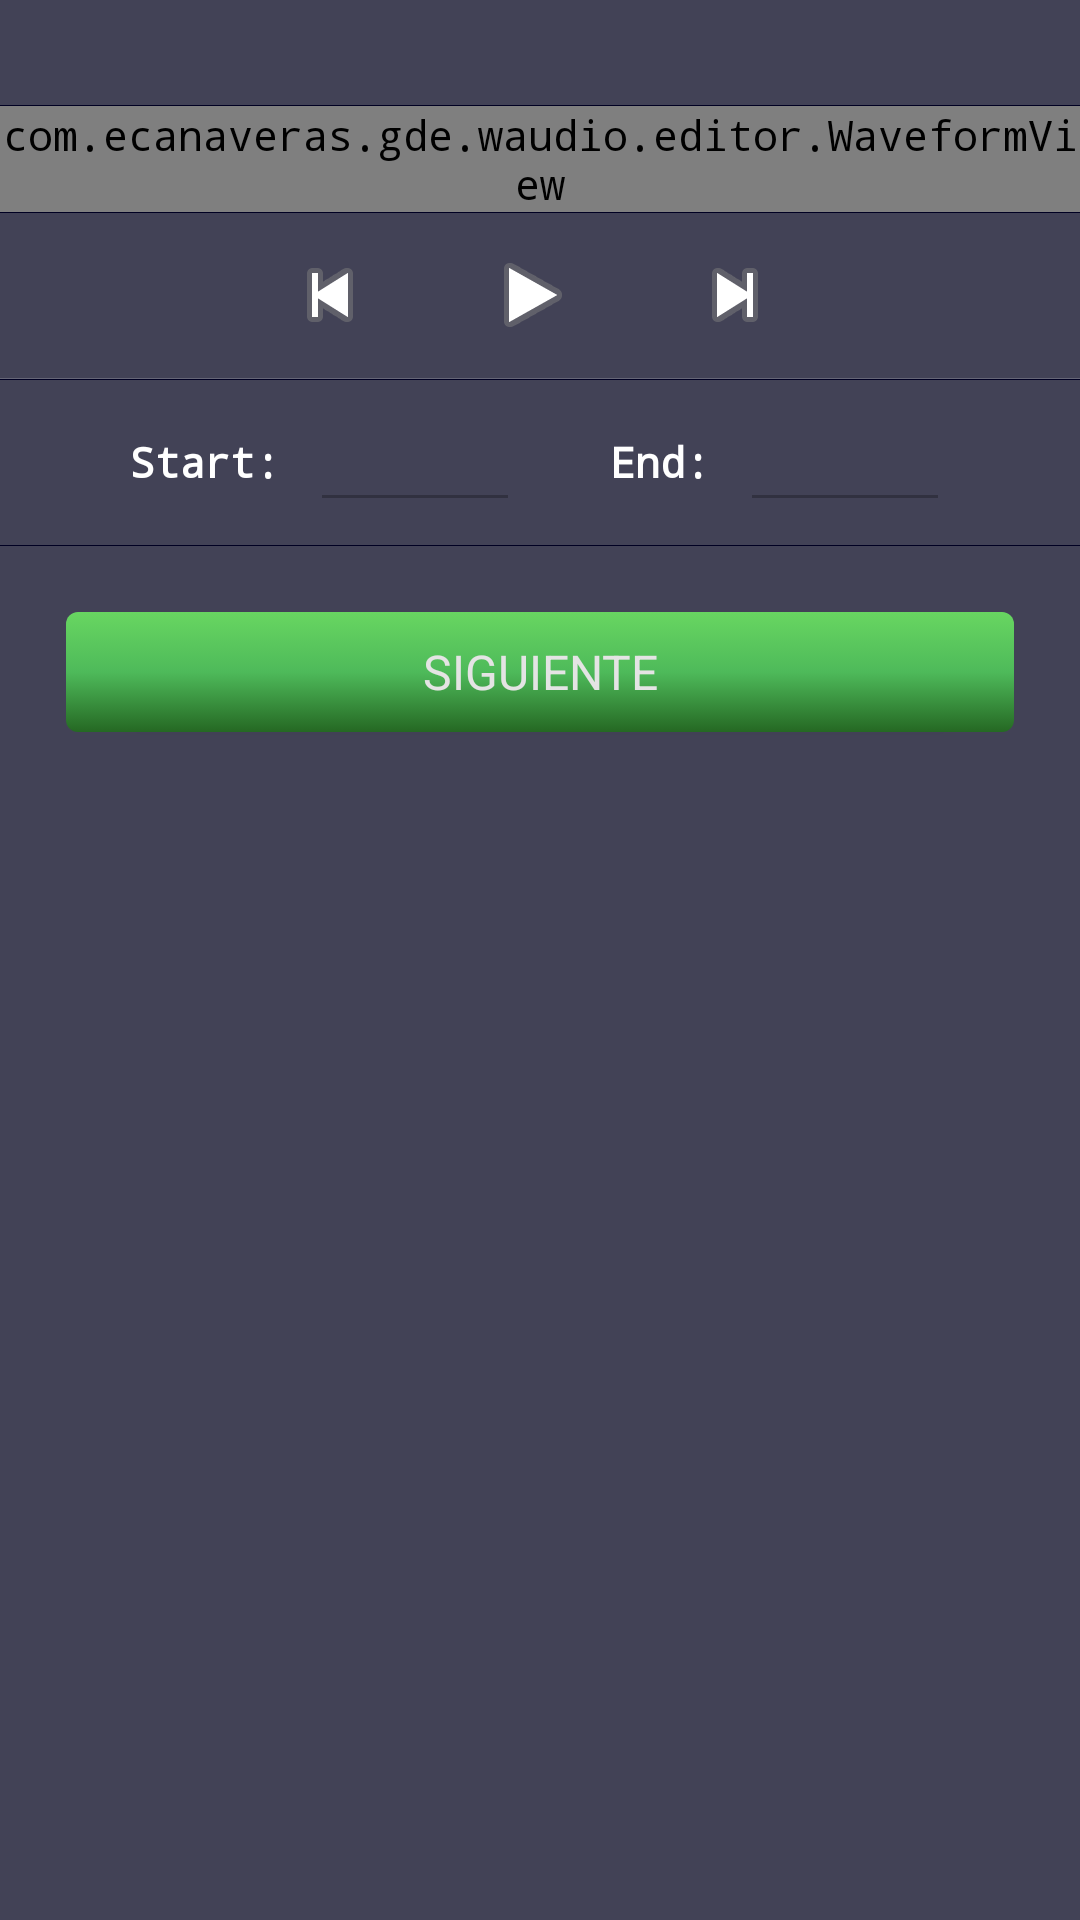

Screen size 1080×1920. Icon name, then its center in pixels as point (x, y):
Fast forward: point (735, 295)
Play: point (533, 295)
Rewind: point (330, 295)
